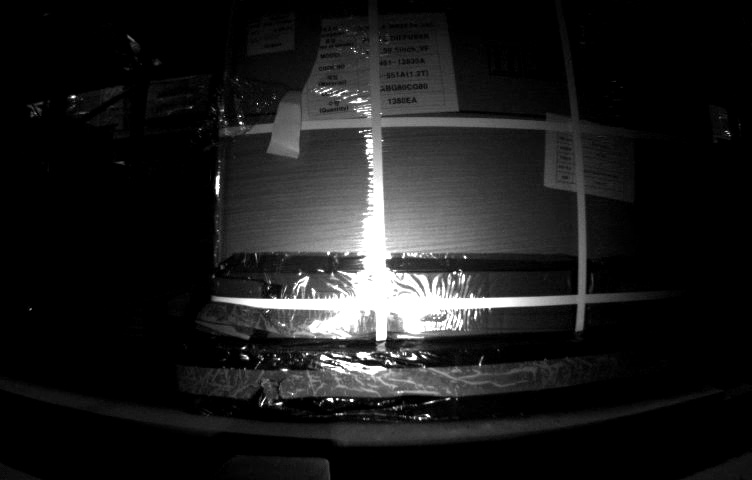True Barcode: (242, 14, 296, 46)
